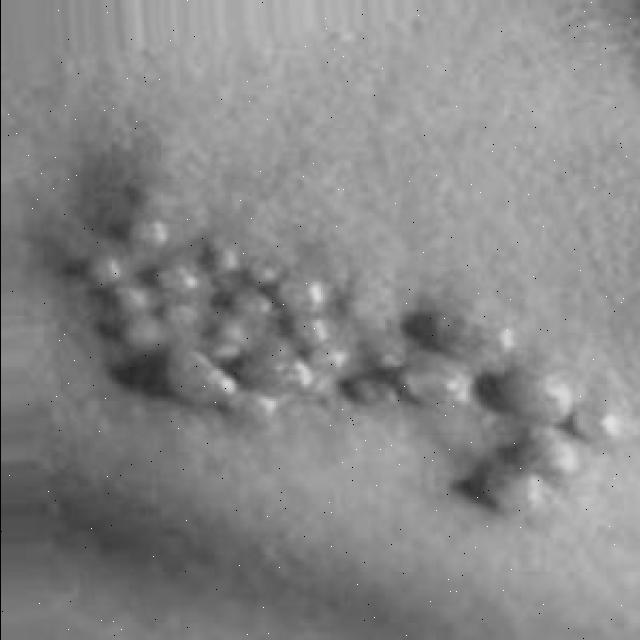Shingles: (82, 216, 618, 513)
